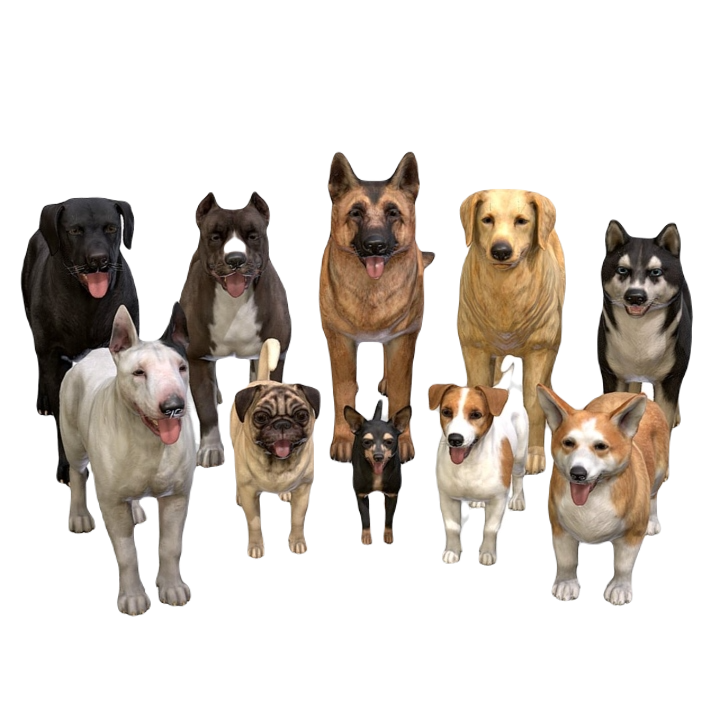Dog: (308, 137, 435, 406), (538, 378, 676, 610), (450, 183, 563, 375), (24, 194, 145, 321)
